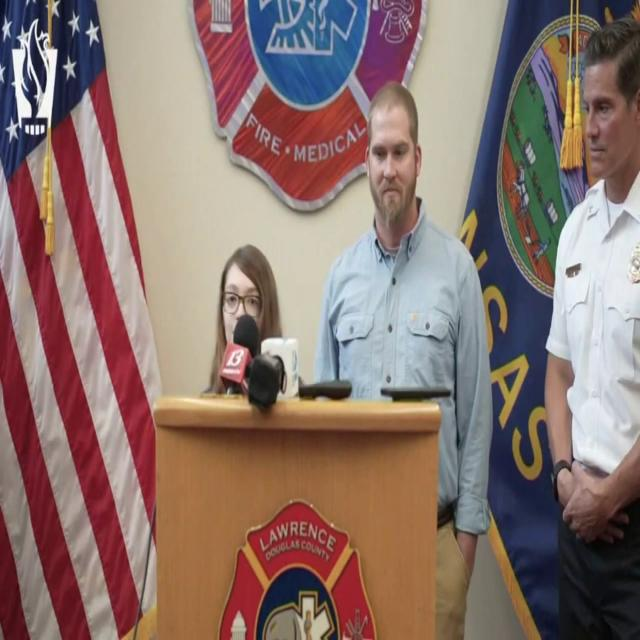adult: (312, 82, 492, 640), (547, 16, 637, 636), (204, 243, 282, 402)
